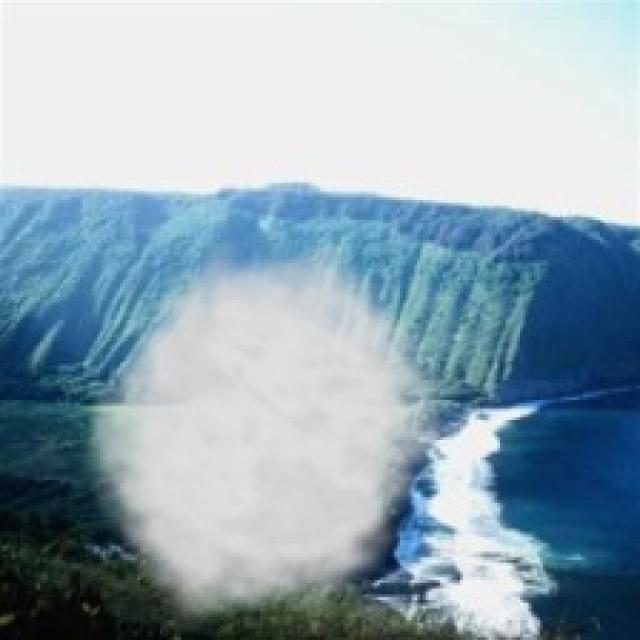smoke: (74, 237, 460, 634)
